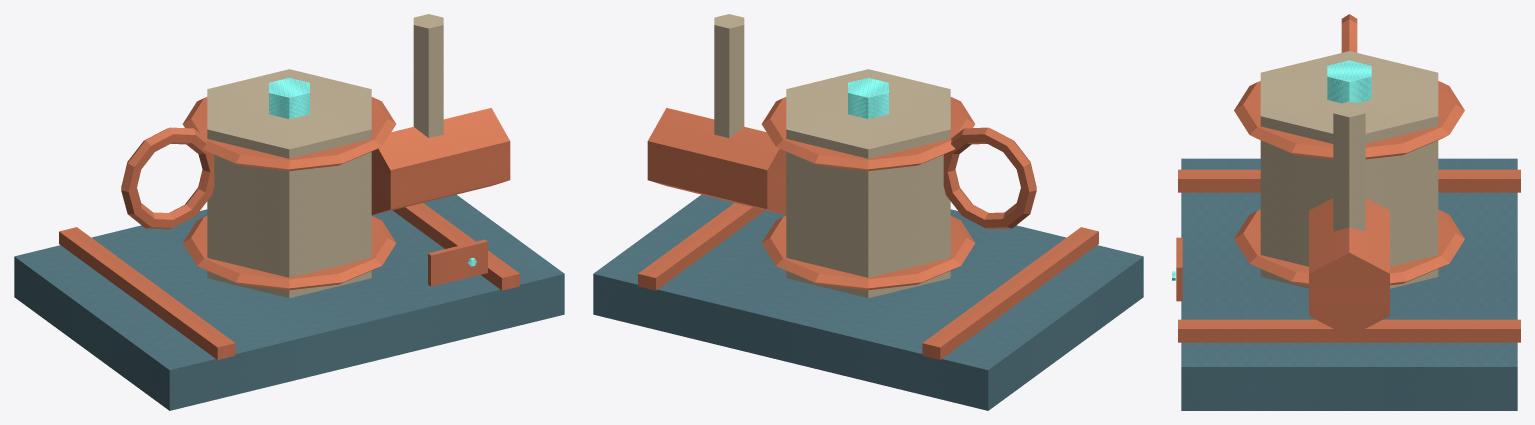
File: atlas100-s042-a02.lod1.glb
3 renders of one model, left to right at view 1: azimuth 30°, elevation 25°; view 2: azimuth 150°, elevation 25°; view 3: azimuth 270°, elevation 25°, orthographic. The views are drawn at different scales.
Parts seen in each view (by area): view 1: atlas100-s042-a02:part-000, atlas100-s042-a02:part-003, atlas100-s042-a02:part-007, atlas100-s042-a02:part-001, atlas100-s042-a02:part-004, atlas100-s042-a02:part-005, atlas100-s042-a02:part-009, atlas100-s042-a02:part-008, atlas100-s042-a02:part-002, atlas100-s042-a02:part-010, atlas100-s042-a02:part-006; view 2: atlas100-s042-a02:part-000, atlas100-s042-a02:part-003, atlas100-s042-a02:part-007, atlas100-s042-a02:part-001, atlas100-s042-a02:part-004, atlas100-s042-a02:part-005, atlas100-s042-a02:part-009, atlas100-s042-a02:part-008, atlas100-s042-a02:part-002, atlas100-s042-a02:part-006; view 3: atlas100-s042-a02:part-000, atlas100-s042-a02:part-003, atlas100-s042-a02:part-007, atlas100-s042-a02:part-002, atlas100-s042-a02:part-005, atlas100-s042-a02:part-008, atlas100-s042-a02:part-001, atlas100-s042-a02:part-004, atlas100-s042-a02:part-006, atlas100-s042-a02:part-009, atlas100-s042-a02:part-010.
Part boxes in pixels (bbox=[...]): atlas100-s042-a02:part-000: bbox=[14, 194, 564, 410]; atlas100-s042-a02:part-003: bbox=[207, 69, 371, 298]; atlas100-s042-a02:part-007: bbox=[371, 108, 510, 214]; atlas100-s042-a02:part-001: bbox=[59, 227, 235, 359]; atlas100-s042-a02:part-004: bbox=[182, 216, 396, 290]; atlas100-s042-a02:part-005: bbox=[182, 97, 396, 170]; atlas100-s042-a02:part-009: bbox=[121, 127, 214, 229]; atlas100-s042-a02:part-008: bbox=[413, 14, 443, 137]; atlas100-s042-a02:part-002: bbox=[393, 203, 519, 290]; atlas100-s042-a02:part-010: bbox=[428, 239, 487, 286]; atlas100-s042-a02:part-006: bbox=[269, 78, 309, 119]; atlas100-s042-a02:part-000: bbox=[593, 194, 1143, 410]; atlas100-s042-a02:part-003: bbox=[786, 69, 950, 298]; atlas100-s042-a02:part-007: bbox=[647, 108, 786, 214]; atlas100-s042-a02:part-001: bbox=[922, 227, 1098, 359]; atlas100-s042-a02:part-004: bbox=[761, 216, 975, 290]; atlas100-s042-a02:part-005: bbox=[761, 97, 975, 170]; atlas100-s042-a02:part-009: bbox=[943, 127, 1036, 229]; atlas100-s042-a02:part-008: bbox=[714, 14, 744, 137]; atlas100-s042-a02:part-002: bbox=[638, 203, 764, 290]; atlas100-s042-a02:part-006: bbox=[848, 78, 888, 119]; atlas100-s042-a02:part-000: bbox=[1181, 158, 1517, 410]; atlas100-s042-a02:part-003: bbox=[1260, 51, 1438, 288]; atlas100-s042-a02:part-007: bbox=[1309, 198, 1389, 336]; atlas100-s042-a02:part-002: bbox=[1178, 319, 1520, 342]; atlas100-s042-a02:part-005: bbox=[1234, 81, 1464, 159]; atlas100-s042-a02:part-008: bbox=[1333, 101, 1365, 231]; atlas100-s042-a02:part-001: bbox=[1178, 169, 1520, 192]; atlas100-s042-a02:part-004: bbox=[1234, 209, 1464, 285]; atlas100-s042-a02:part-006: bbox=[1327, 60, 1371, 103]; atlas100-s042-a02:part-009: bbox=[1341, 14, 1357, 52]; atlas100-s042-a02:part-010: bbox=[1176, 237, 1182, 301].
Bounding box in the file's own units: 2.67 × 1.6 × 1.87.
4 materials, 4 textured.
